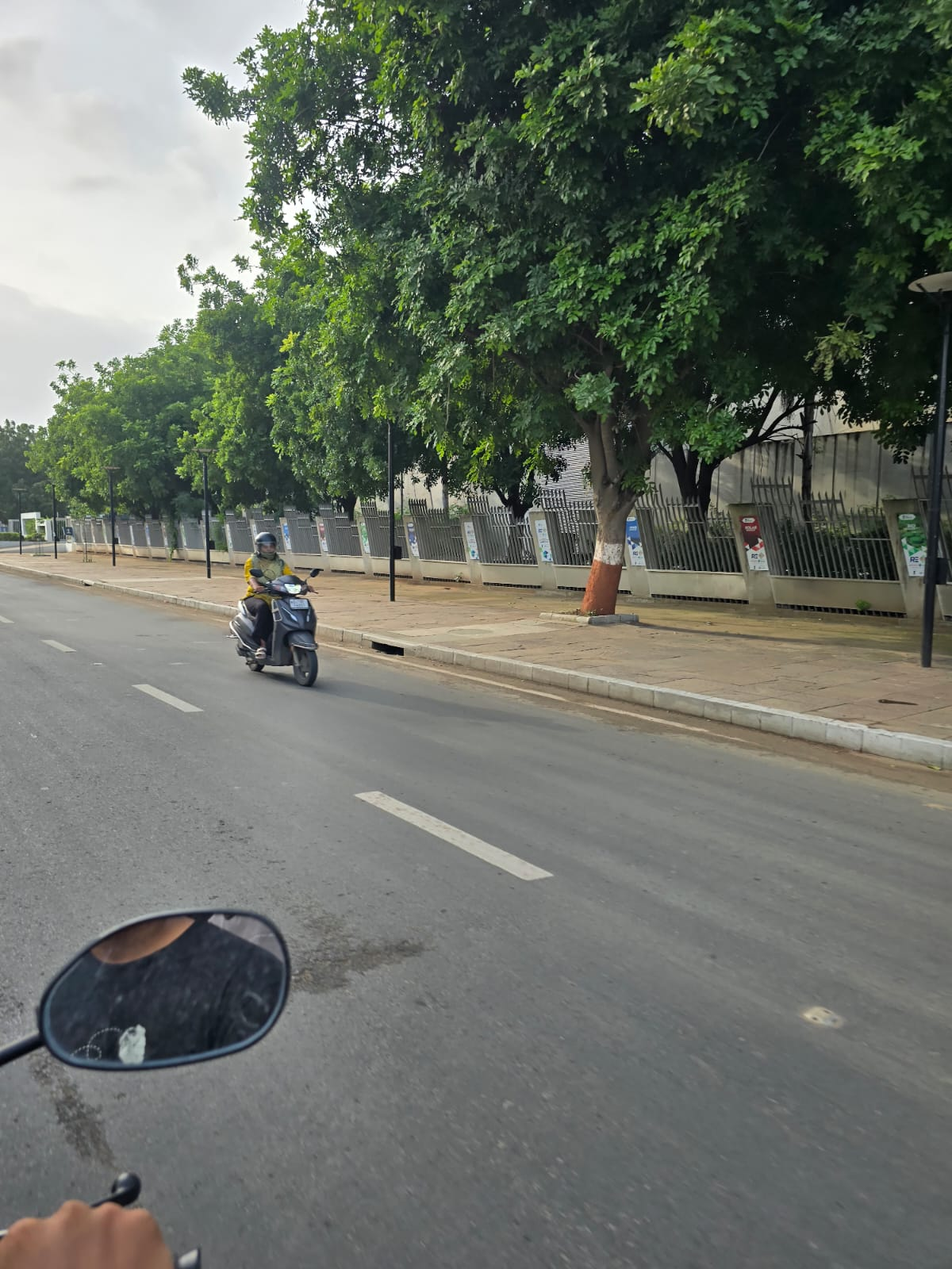BikeWithRider: (189, 504, 362, 727)
Helmet: (246, 526, 287, 569)
